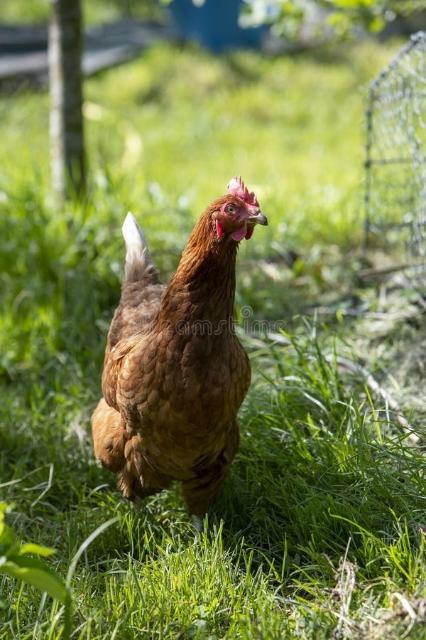Chicken: (94, 179, 271, 518)
